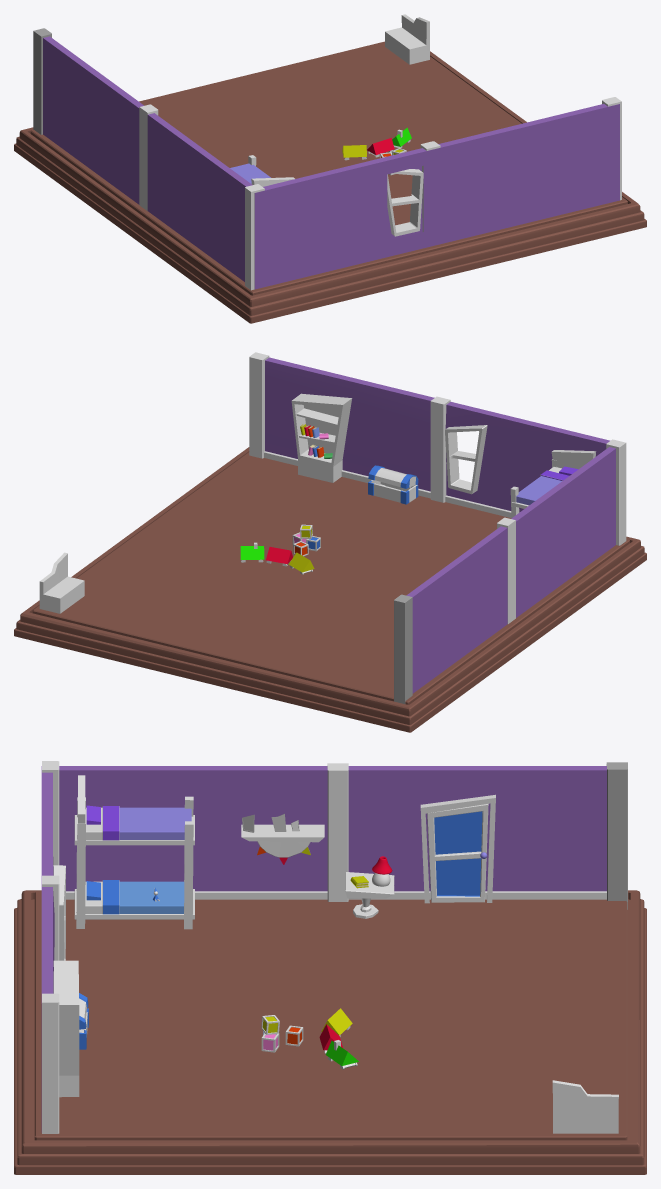
Rendered from CHAMBRE 1.fbx.
The picture shows the model from 3 angles, top to bottom: view 1: azimuth 30°, elevation 25°; view 2: azimuth 150°, elevation 25°; view 3: azimuth 270°, elevation 25°; orthographic projection. The views are drawn at different scales.
Parts seen in each view (by area): view 1: pCube9, pCube8, pCube51, pCube74, pCube112, pCube111, pCube113, polySurface31; view 2: pCube8, pCube9, polySurface19, pCube111, pCube51, pCube74, pCube110, pCube109, polySurface31, pCube52, pCube112, pCube113 (+1 smaller); view 3: pCube8, pCube9, polySurface7, polySurface31, polySurface30, polySurface19, pCube51, pCube113, pCube111, pCube109, polySurface5, pCube117 (+9 smaller).
Boxes of the visible parts, <box> form: pCube9: <box>43,36,619,289</box>; pCube8: <box>14,41,646,323</box>; pCube51: <box>385,14,429,64</box>; pCube74: <box>387,169,423,236</box>; pCube112: <box>245,184,264,290</box>; pCube111: <box>33,28,51,134</box>; pCube113: <box>139,104,158,210</box>; polySurface31: <box>230,163,294,186</box>; pCube8: <box>14,447,646,732</box>; pCube9: <box>265,357,615,693</box>; polySurface19: <box>291,393,352,482</box>; pCube111: <box>394,594,412,703</box>; pCube51: <box>39,552,84,613</box>; pCube74: <box>445,425,487,494</box>; pCube110: <box>430,396,450,502</box>; pCube109: <box>249,352,269,458</box>; polySurface31: <box>511,450,596,508</box>; pCube52: <box>368,465,418,504</box>; pCube112: <box>606,439,626,545</box>; pCube113: <box>497,517,515,623</box>; pCube8: <box>14,890,646,1174</box>; pCube9: <box>41,766,606,1132</box>; polySurface7: <box>427,803,488,902</box>; polySurface31: <box>74,775,194,845</box>; polySurface30: <box>74,880,194,919</box>; polySurface19: <box>53,960,79,1097</box>; pCube51: <box>552,1080,618,1133</box>; pCube113: <box>327,763,348,901</box>; pCube111: <box>606,762,627,909</box>; pCube109: <box>42,993,59,1133</box>; polySurface5: <box>420,794,495,903</box>; pCube117: <box>348,891,606,899</box>.
Size of the model in its own units: 1790 by 524 by 1851.
